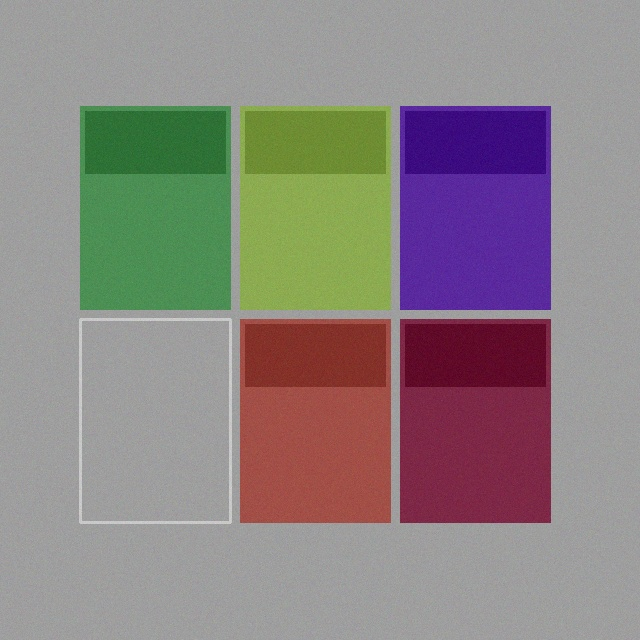space-empty: (80, 319, 230, 522)
space-occupied: (80, 106, 230, 309), (240, 106, 390, 309), (400, 106, 550, 309), (240, 319, 390, 522), (400, 319, 550, 522)
